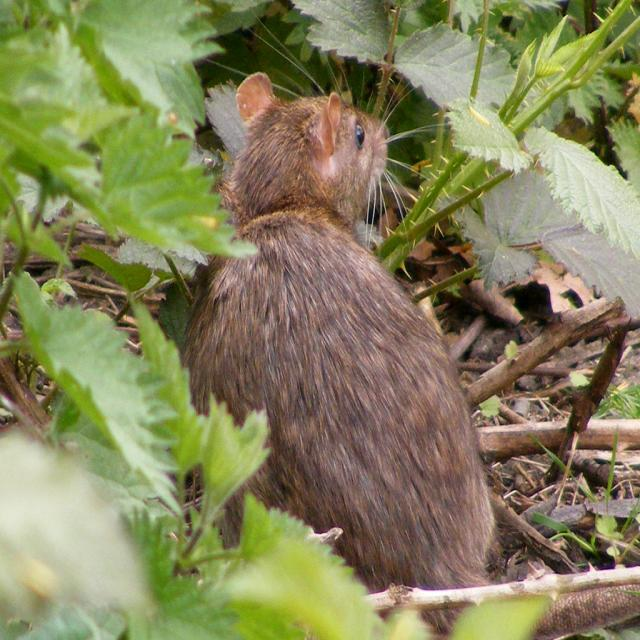rat: (188, 84, 530, 598)
